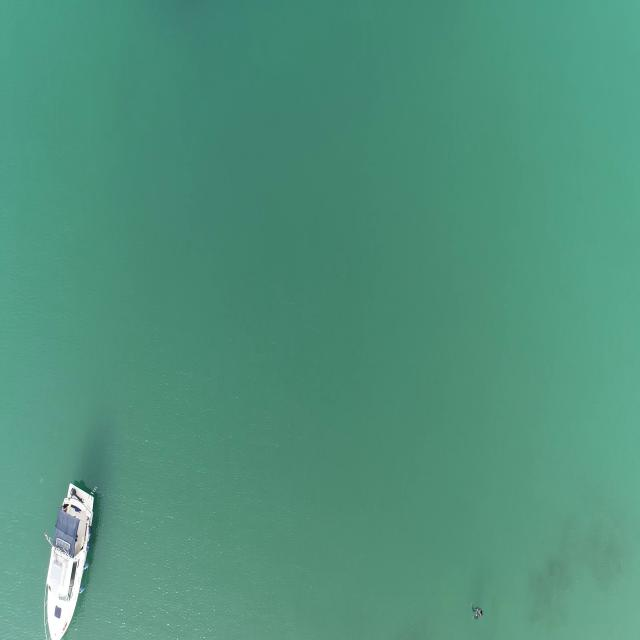boat: (39, 480, 100, 640)
person: (470, 603, 486, 621)
